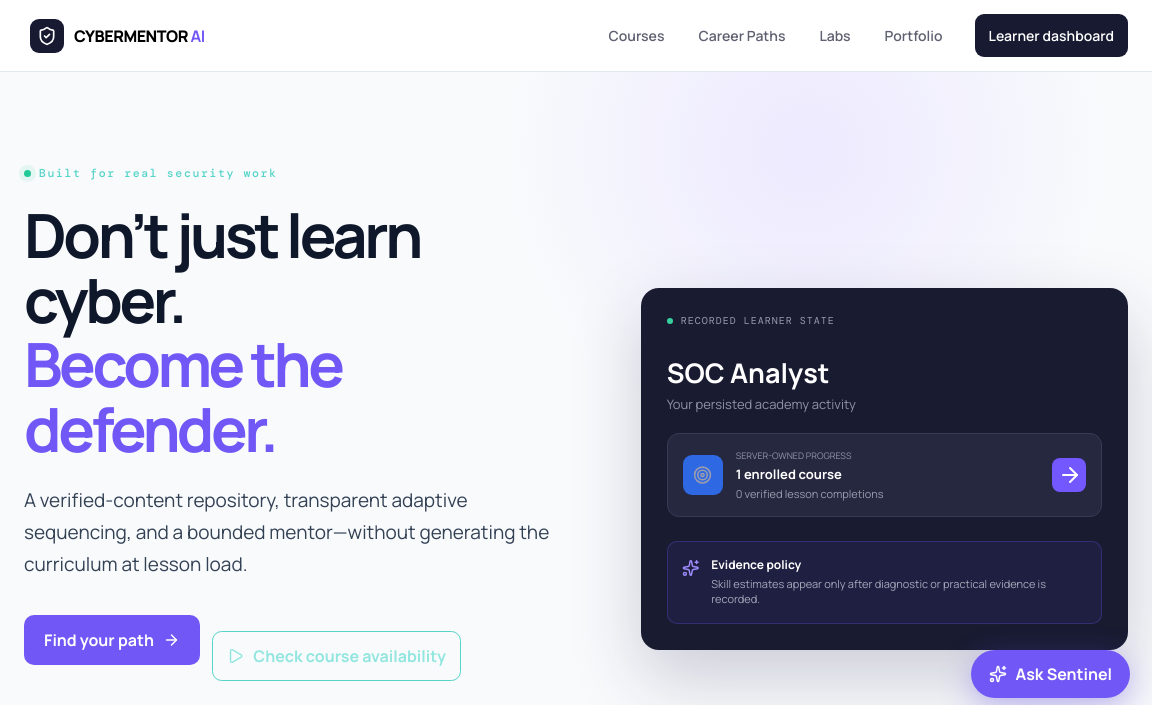
Scenario: connected learner experience › searches the catalog with labeled controls
Click the button "Courses" at (637, 36), box [595,14,678,57]
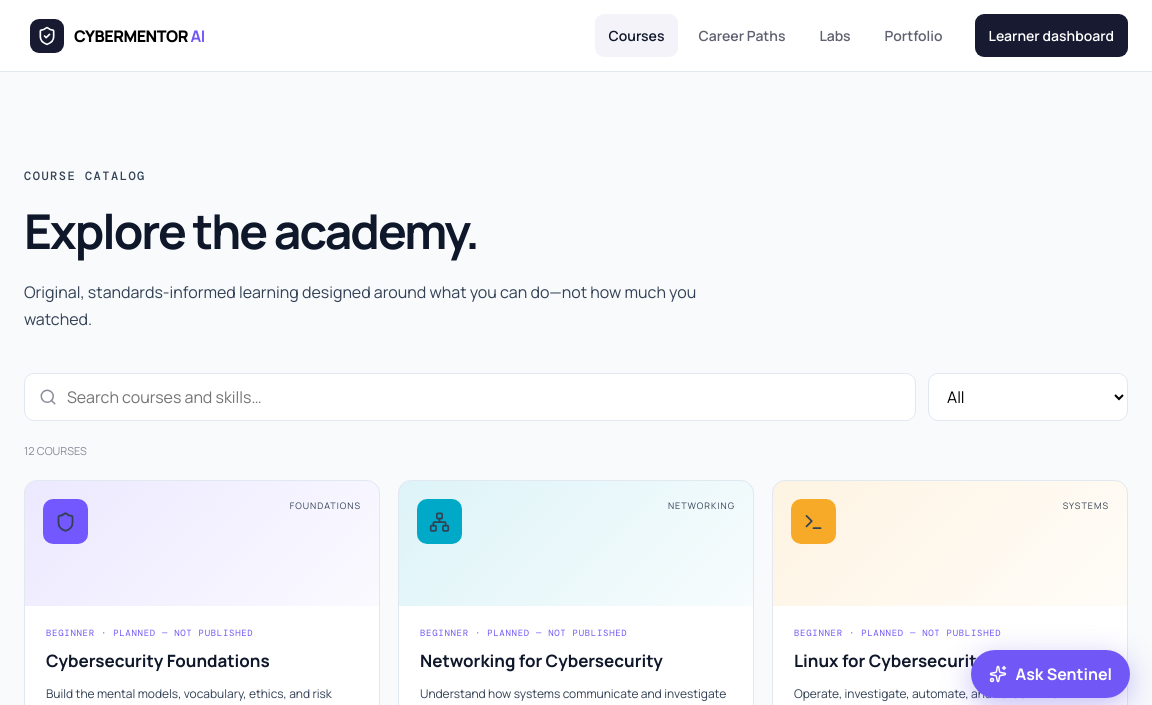
Type "cloud IAM" into the field labelled "Search courses and skills" at (479, 397), box [57,386,901,408]
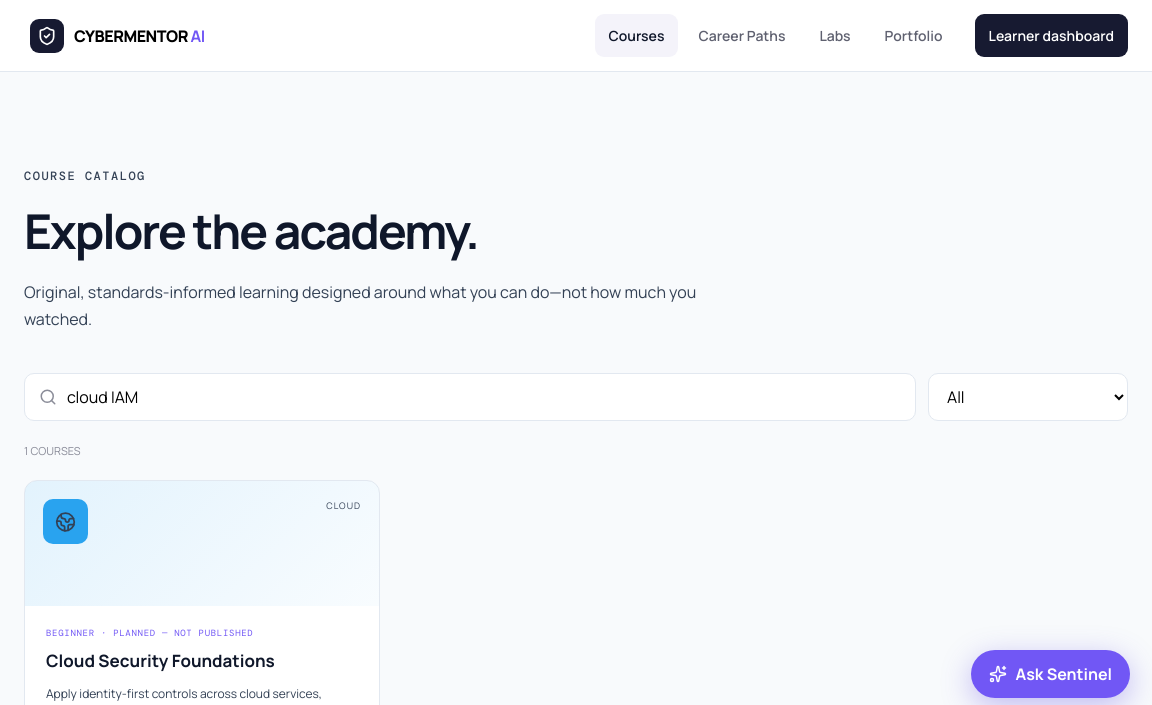
Now the heading "Cloud Security Foundations" is shown, box [46,649,275,672]
Now the button "Cybersecurity Foundations" is gone
